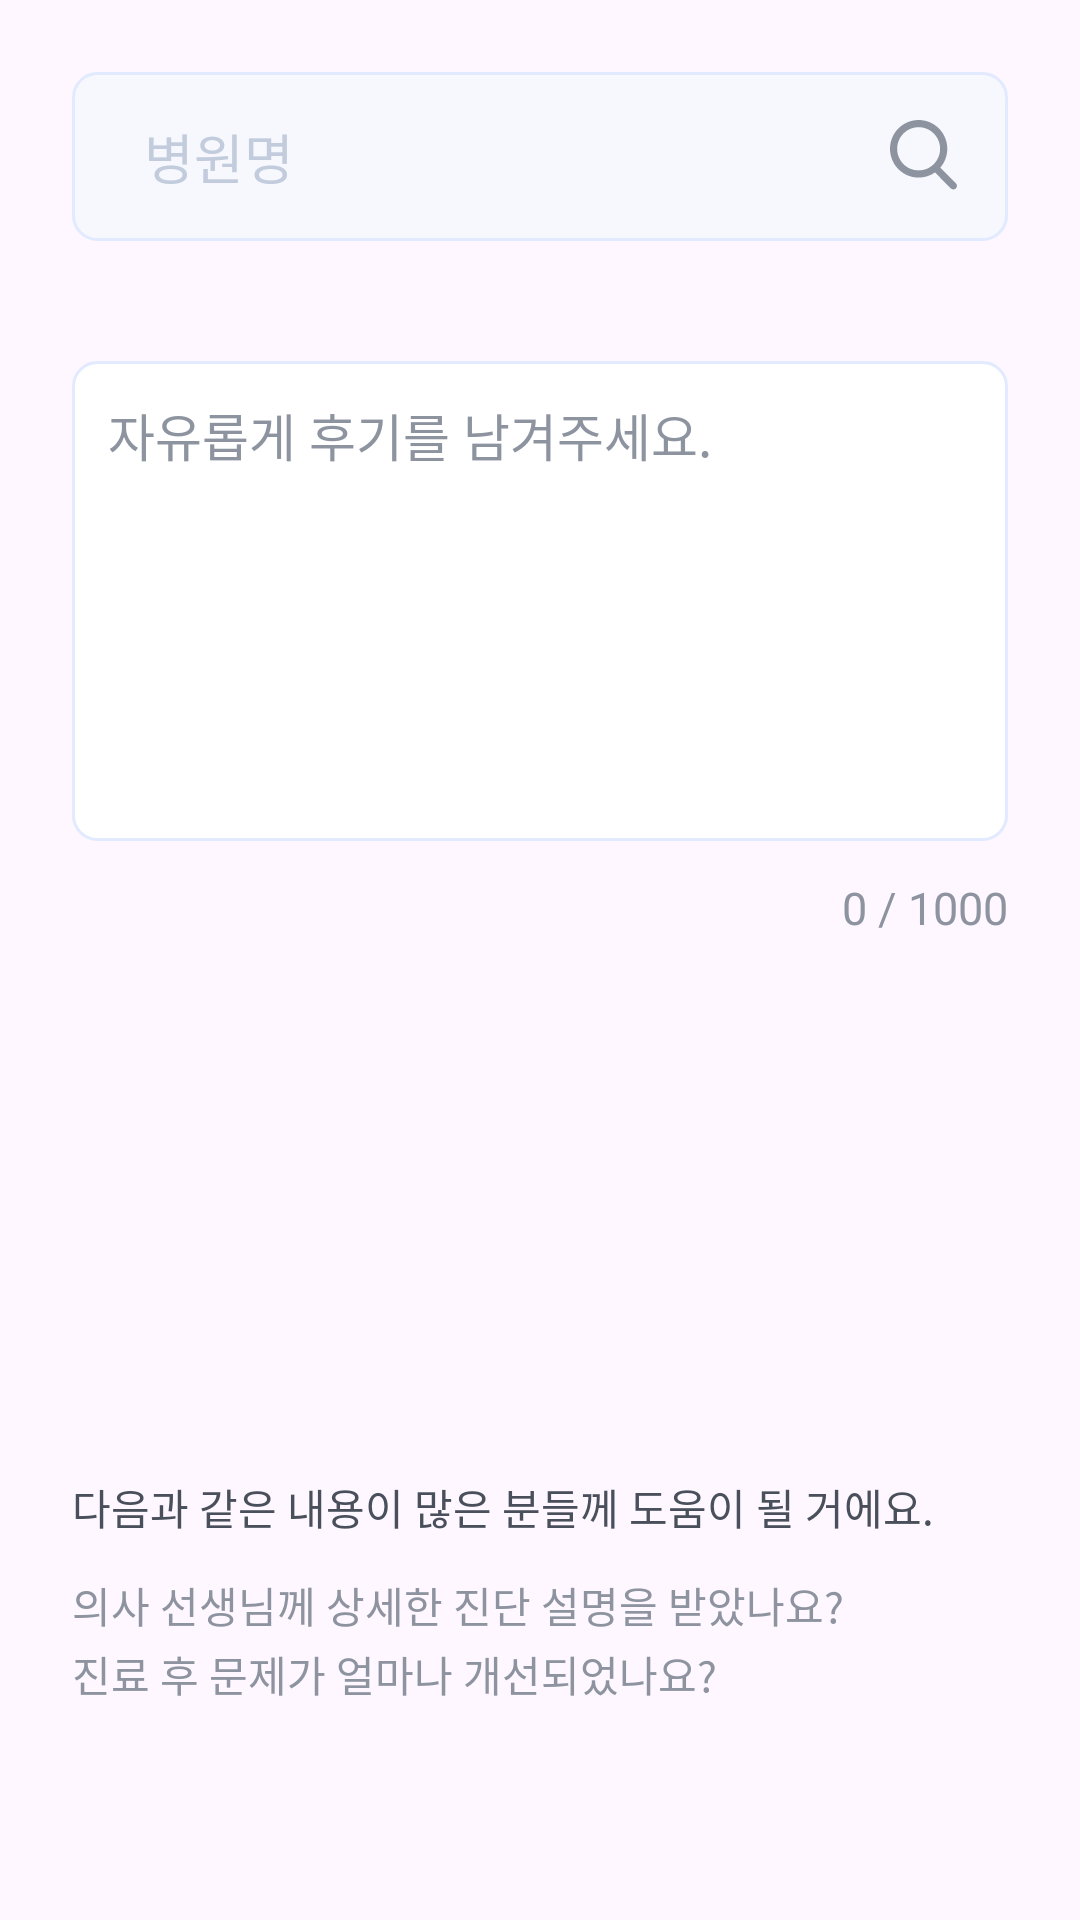

Icons on this 1080w x 1920h Android screen, each with its box as (x1, y1, x2, y2):
search: (890, 120, 957, 190)
